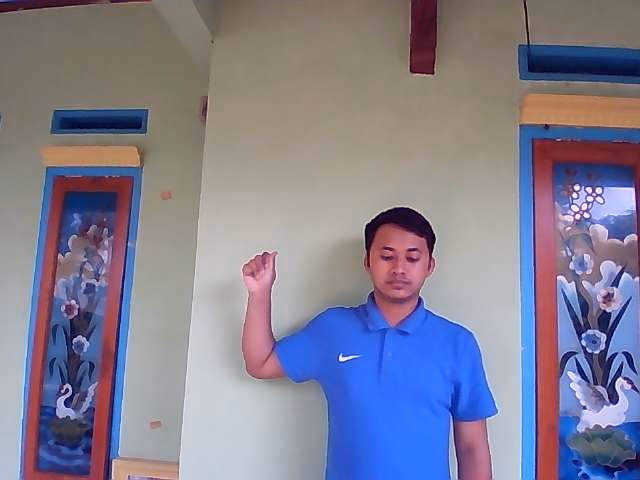A: (241, 251, 280, 292)
